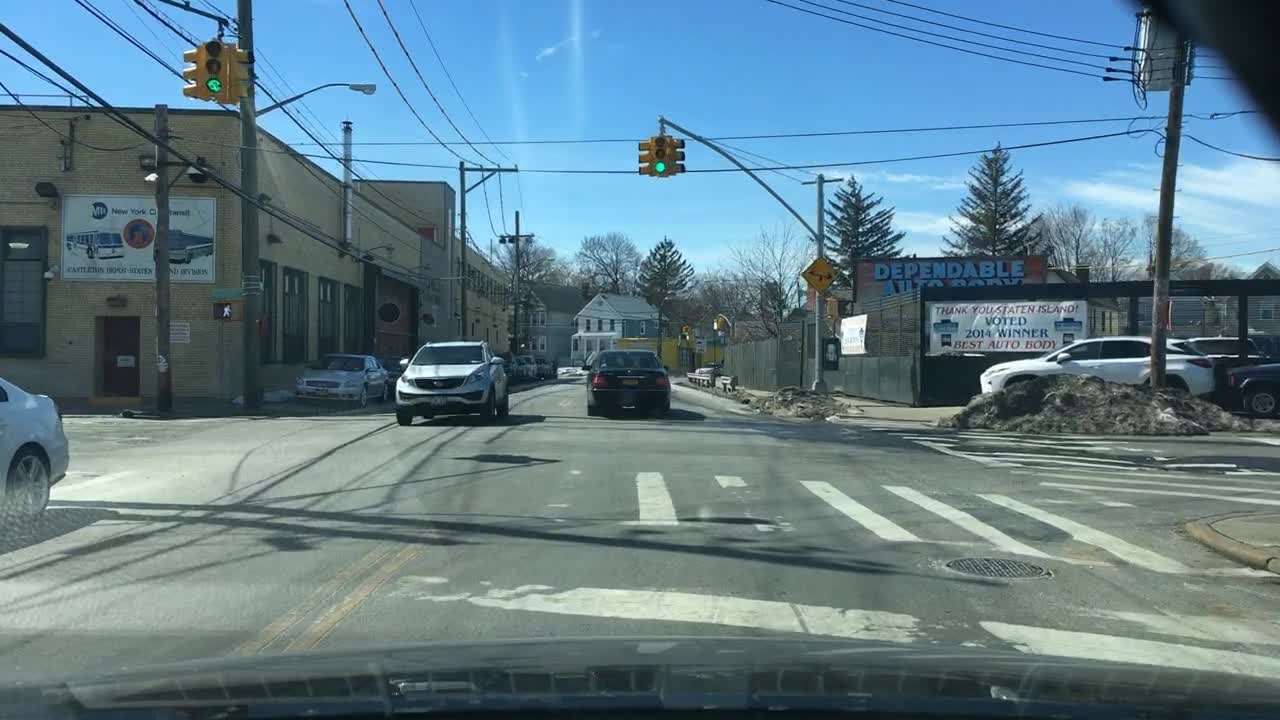car: (976, 330, 1220, 404), (389, 336, 513, 429), (0, 372, 72, 531), (1178, 331, 1274, 410), (579, 345, 676, 420), (290, 350, 392, 410), (374, 350, 415, 402), (1221, 399, 1279, 422), (509, 354, 535, 385), (516, 351, 540, 382), (533, 352, 557, 382), (498, 357, 518, 389), (689, 359, 723, 375)
traffic light: (196, 36, 232, 105), (230, 44, 258, 100), (179, 43, 201, 100), (646, 134, 673, 177), (669, 134, 687, 173), (635, 137, 651, 177), (213, 299, 232, 323), (709, 317, 727, 333), (680, 323, 689, 336)
